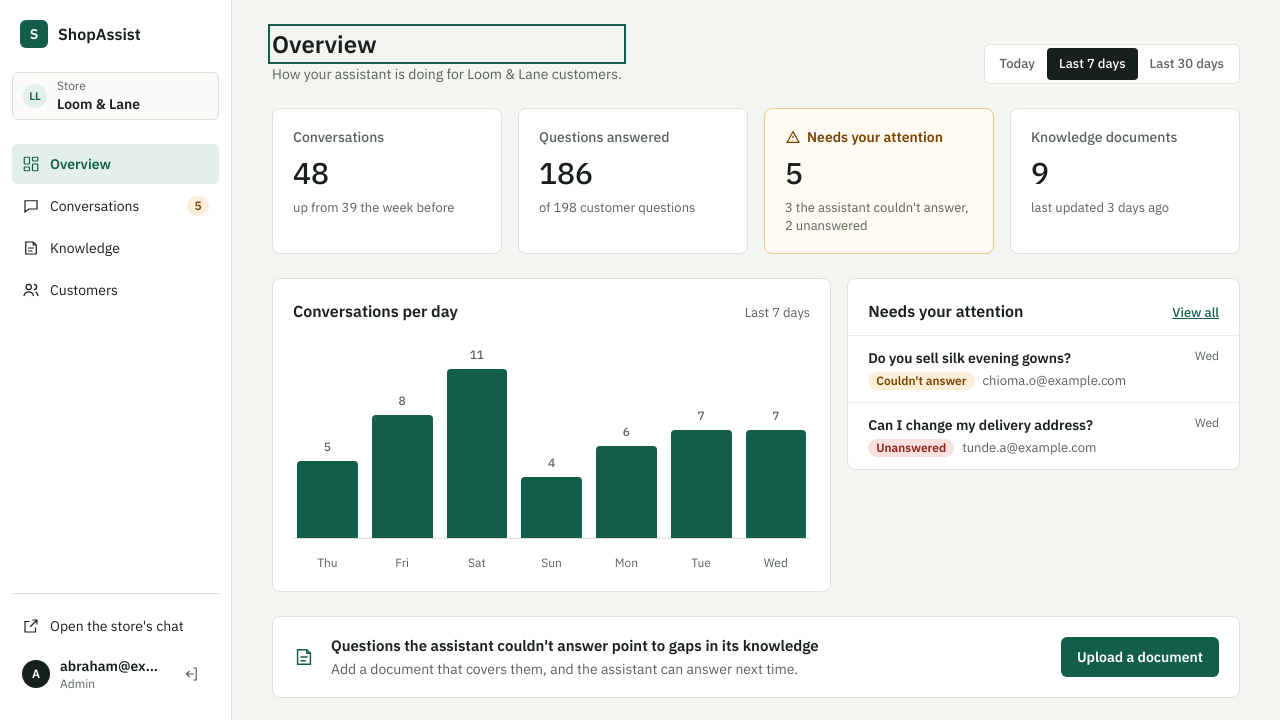
Test: the layout › sign out forgets the token and returns to sign in
Click the button named "Sign out".
click(191, 674)  # box [173,656,209,692]
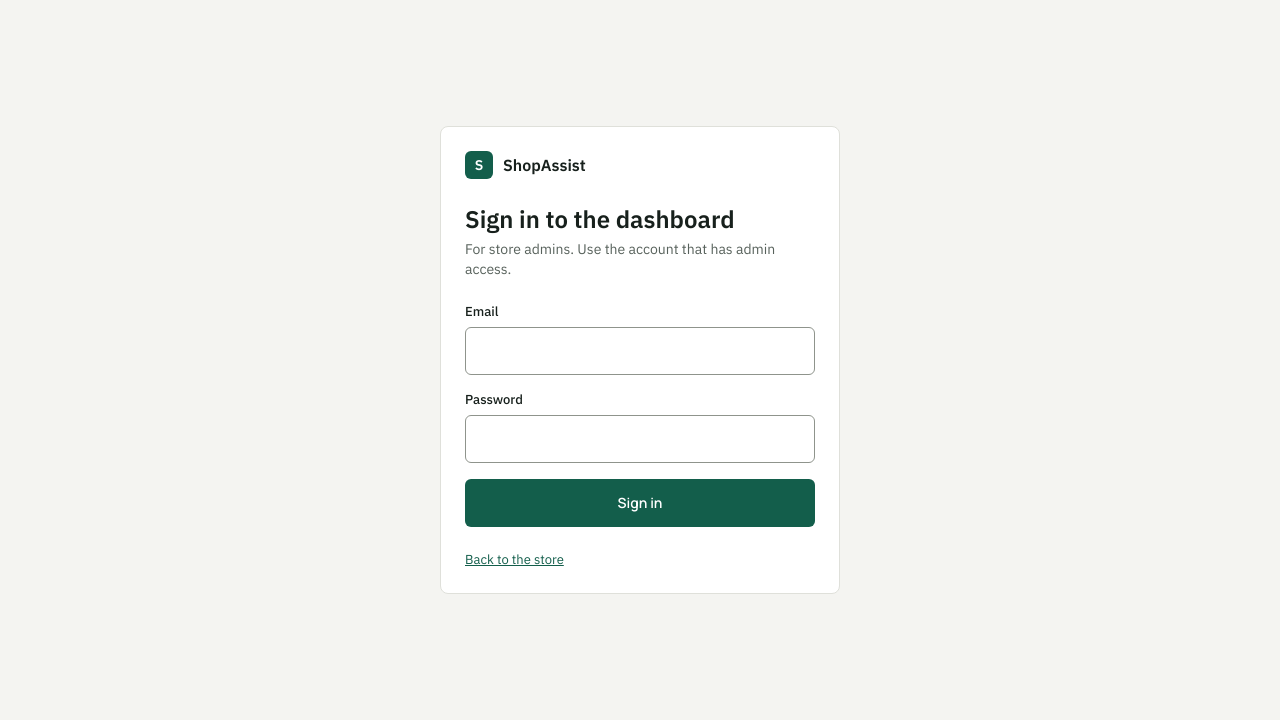
Now the heading "Sign in to the dashboard" is shown, box [465,203,735,235]
